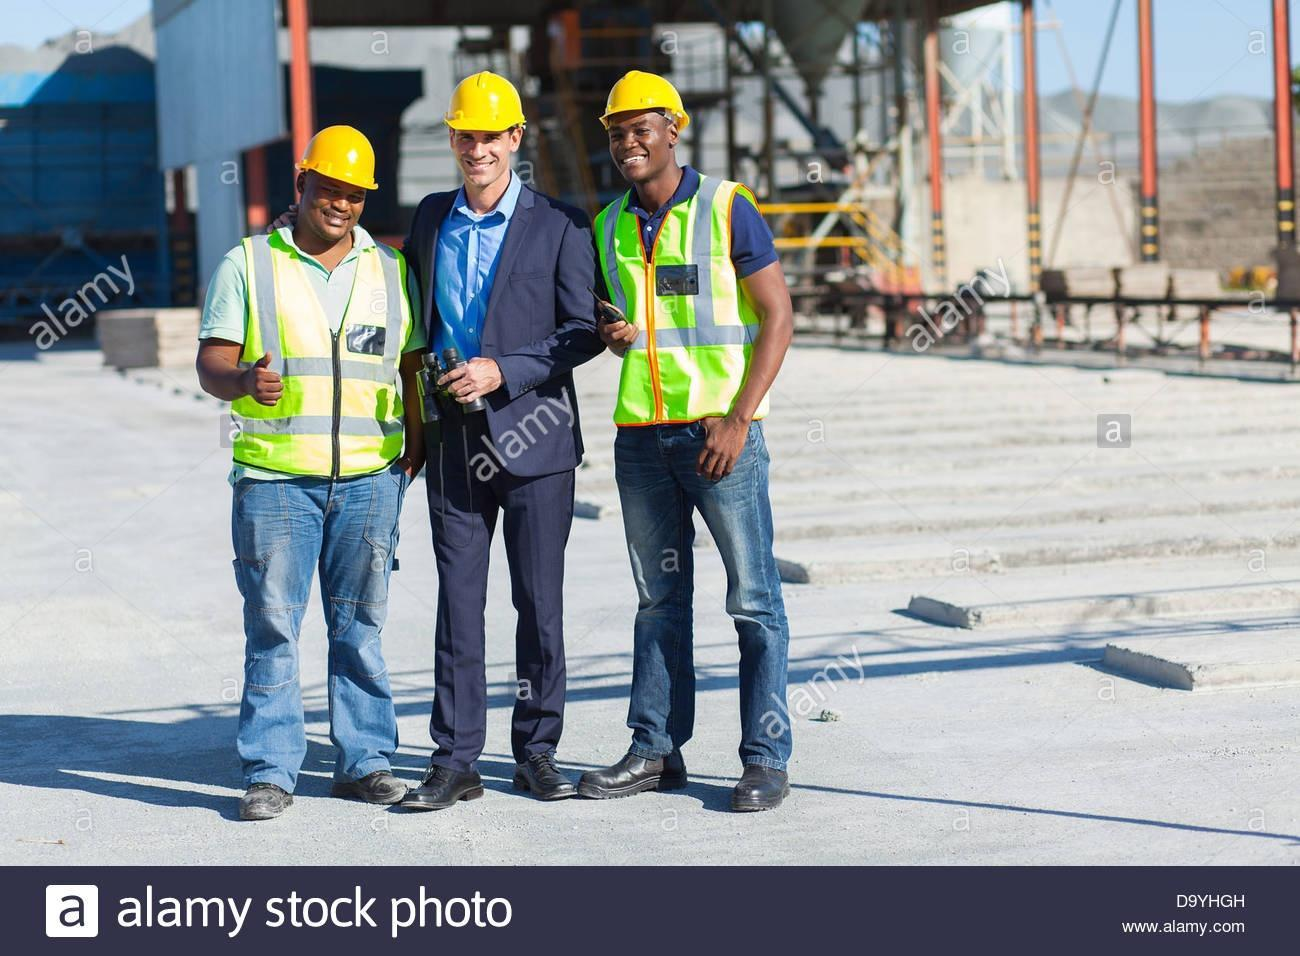helmet: (289, 116, 388, 206), (435, 71, 534, 143), (595, 66, 691, 134)
no-vest: (425, 189, 571, 511)
person: (198, 109, 422, 822), (597, 67, 803, 832), (415, 62, 598, 826)
vest: (228, 232, 399, 486), (601, 186, 771, 440)
